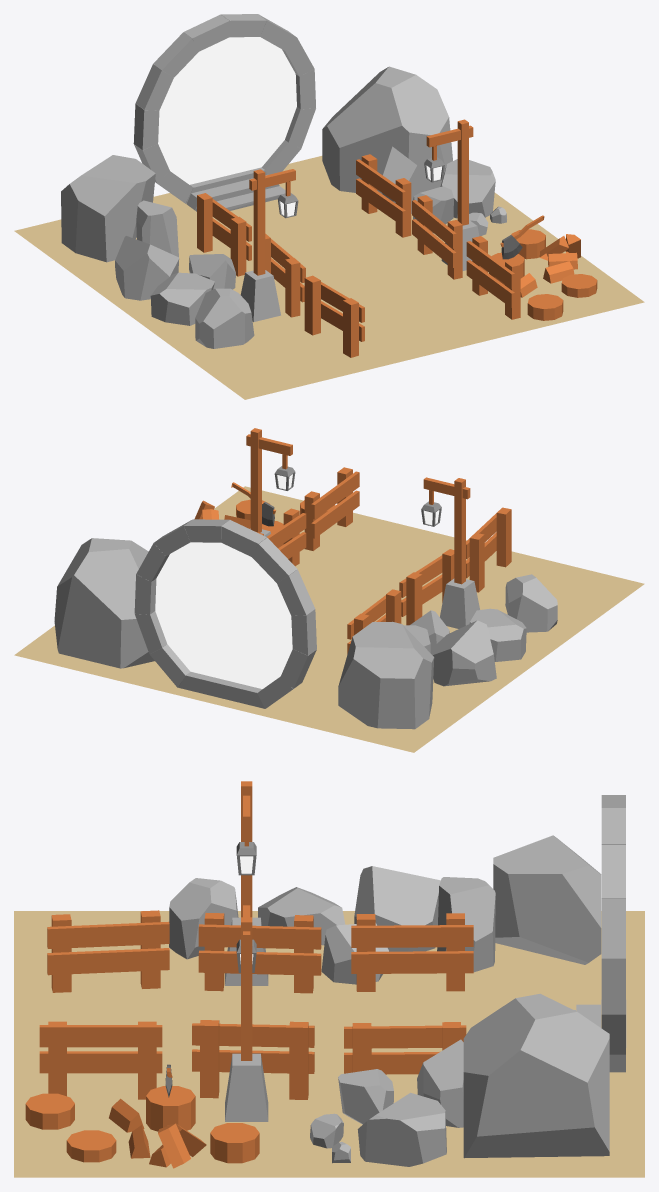
The model's file is portal.gltf.
3 views of the same model, one above another, from view 1: azimuth 30°, elevation 25°; view 2: azimuth 150°, elevation 25°; view 3: azimuth 270°, elevation 25° (orthographic). The views are drawn at different scales.
Visible parts, largest first — view 1: Floor, Portal, RockR1-3, RockL1-4, RockL6-3, FenceL1, RockL4-2, FenceR3, FenceL3, FenceR1, FenceR2, RockL5-4 (+27 smaller); view 2: Floor, Portal, RockR1-3, RockL1-4, RockL4-2, FenceR1, FenceL1, RockL6-3, FenceL2, RockL5-4, LampLPole, LampRPole (+17 smaller); view 3: Floor, RockR1-3, RockL1-4, FenceL1, FenceL3, FenceR1, FenceL2, FenceR2, RockR3-1, FenceR3, RockL4-2, RockL2-2 (+22 smaller).
Boxes of the visible parts, box(x1,y1,x2,y2) form: Floor: box(14, 156, 644, 399); Portal: box(158, 37, 296, 184); RockR1-3: box(322, 66, 452, 193); RockL1-4: box(61, 155, 155, 262); RockL6-3: box(195, 288, 254, 348); FenceL1: box(304, 275, 364, 357); RockL4-2: box(115, 236, 179, 300); FenceR3: box(356, 154, 411, 237); FenceL3: box(197, 193, 251, 276); FenceR1: box(466, 236, 520, 319); FenceR2: box(412, 195, 462, 279); RockL5-4: box(150, 272, 214, 325); Floor: box(14, 486, 644, 752); Portal: box(155, 542, 292, 688); RockR1-3: box(54, 538, 154, 668); RockL1-4: box(338, 621, 434, 729); RockL4-2: box(430, 620, 496, 686); FenceR1: box(304, 467, 359, 550); FenceL1: box(466, 507, 511, 592); RockL6-3: box(505, 574, 557, 632); FenceL2: box(399, 549, 454, 625); RockL5-4: box(469, 608, 526, 661); LampLPole: box(423, 477, 470, 584); LampRPole: box(246, 428, 292, 532); Floor: box(14, 911, 644, 1177); RockR1-3: box(463, 993, 609, 1158); RockL1-4: box(493, 835, 601, 964); FenceL1: box(47, 910, 169, 992); FenceL3: box(351, 913, 473, 991); FenceR1: box(39, 1021, 162, 1099); FenceL2: box(198, 913, 321, 993); FenceR2: box(192, 1020, 314, 1099); RockR3-1: box(357, 1092, 446, 1166); FenceR3: box(344, 1022, 466, 1074); RockL4-2: box(354, 866, 440, 951); RockL2-2: box(437, 877, 495, 972).
Size of the model in its own units: 4 by 1.65 by 4.
